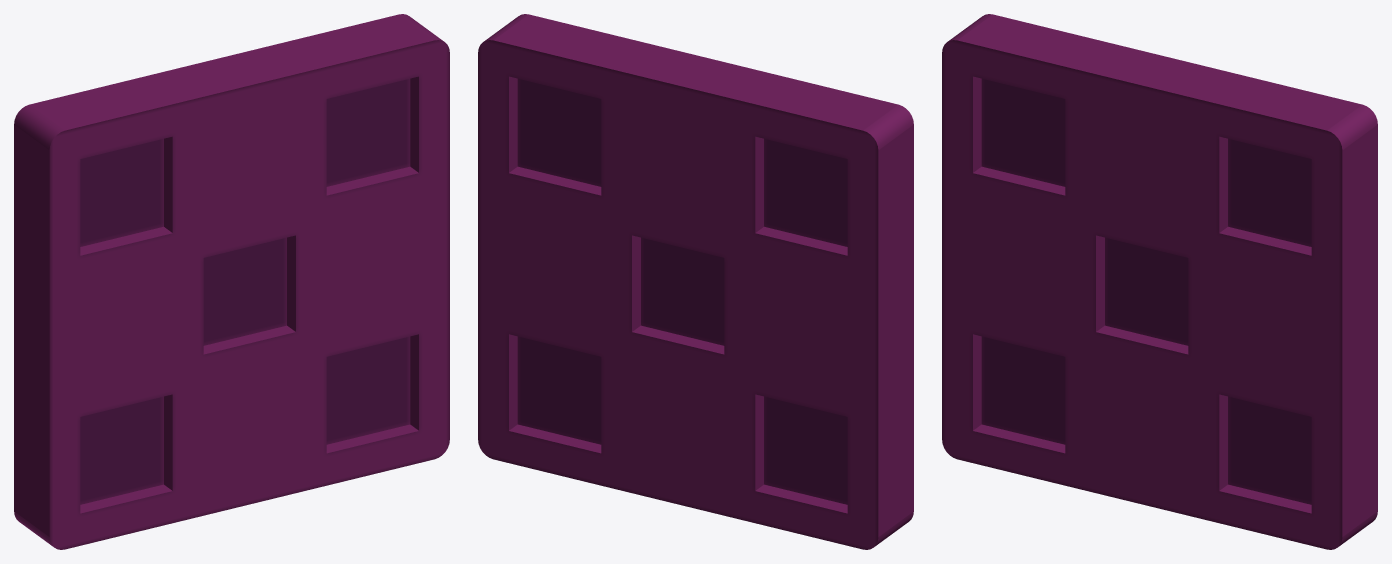
Rendered from T_NeutralDice_Export.fbx.
3 renders of one model, left to right at view 1: azimuth 30°, elevation 25°; view 2: azimuth 150°, elevation 25°; view 3: azimuth 330°, elevation 25°, orthographic.
Parts seen in each view (by area): view 1: generated; view 2: generated; view 3: generated.
Boxes of the visible parts, x1=… form: generated: x1=14, y1=14, x2=449, y2=549; generated: x1=478, y1=14, x2=913, y2=549; generated: x1=942, y1=14, x2=1377, y2=549.
Bounding box in the file's own units: 260 × 260 × 40.
